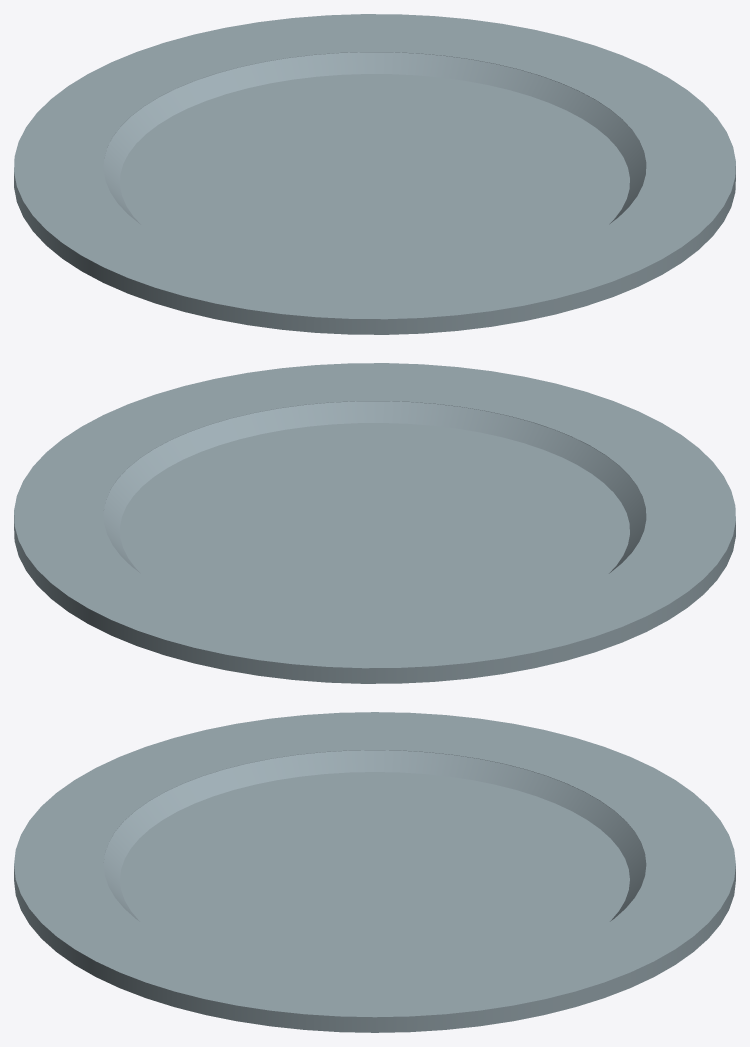
The model's file is plate-done.gltf.
The picture shows the model from 3 angles, top to bottom: view 1: azimuth 30°, elevation 25°; view 2: azimuth 150°, elevation 25°; view 3: azimuth 270°, elevation 25°; orthographic projection.
Parts seen in each view (by area): view 1: Cylinder; view 2: Cylinder; view 3: Cylinder.
Part boxes in pixels (x1,y1,x2,y2): Cylinder: [14, 14, 735, 334]; Cylinder: [14, 363, 735, 683]; Cylinder: [14, 712, 735, 1032].
Size of the model in its own units: 2 by 0.0731 by 2.
Materials: 1 (1 with a texture image).
